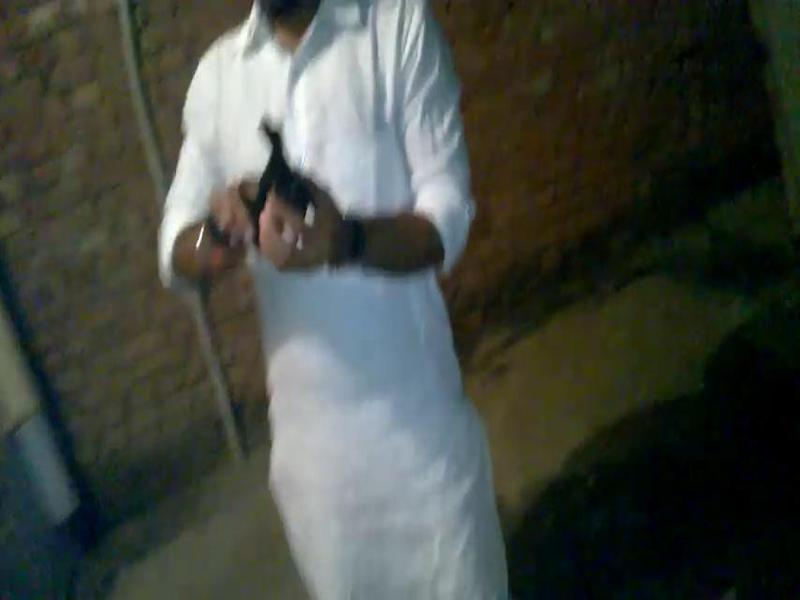Revolver: (223, 111, 346, 269)
